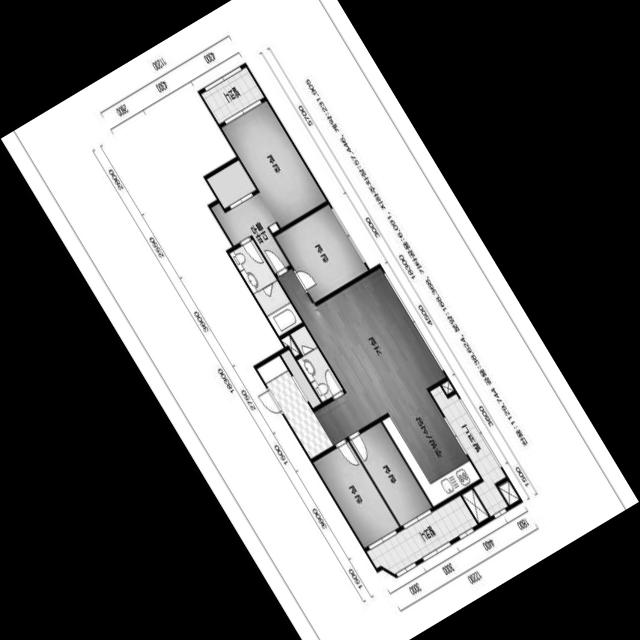background: (1, 0, 639, 640)
space_balconi: (430, 385, 508, 516), (367, 495, 478, 573), (201, 66, 264, 124)
space_bedroom: (222, 100, 326, 227), (275, 203, 368, 302), (313, 441, 399, 547), (350, 421, 432, 525)
space_dressroom: (211, 191, 289, 273), (207, 160, 256, 208)
space_front: (257, 355, 333, 458), (281, 349, 321, 407)
space_kitchen: (382, 388, 480, 506)
space_other: (462, 488, 489, 522), (499, 481, 519, 505), (281, 334, 300, 356), (441, 380, 454, 394)
space_toilet: (230, 238, 302, 335), (290, 325, 343, 402)
